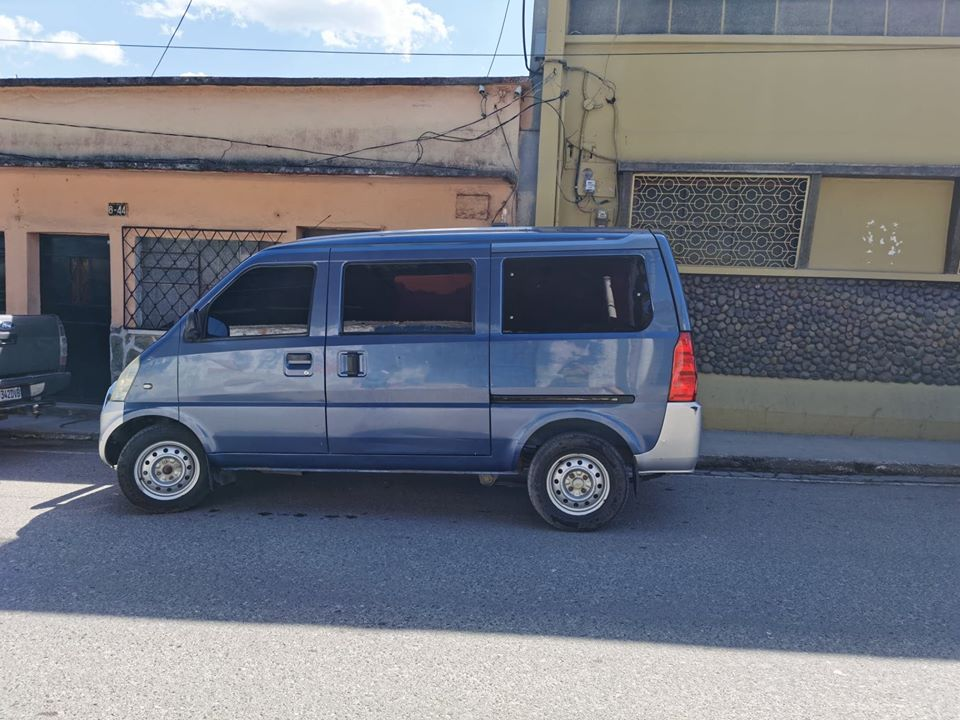bus: (84, 229, 703, 528)
